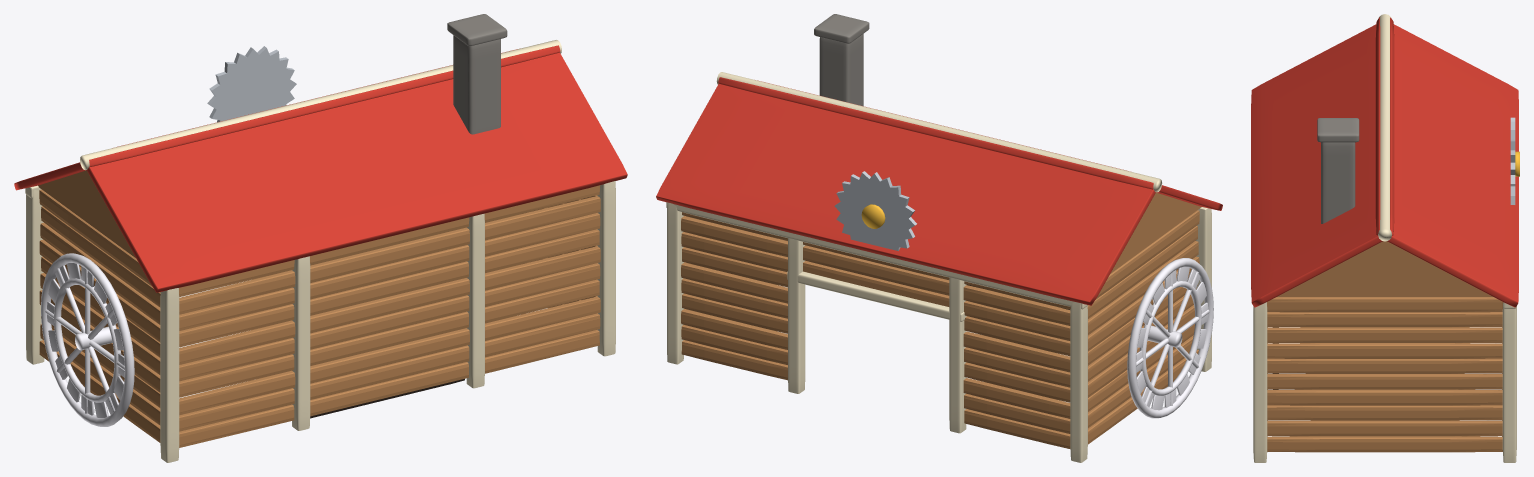
The model's file is LogJamMill.obj.
3 views of the same model, side by side, from view 1: azimuth 30°, elevation 25°; view 2: azimuth 150°, elevation 25°; view 3: azimuth 270°, elevation 25° (orthographic). The views are drawn at different scales.
Visible parts, largest first — view 1: Walls, Roof, Trim, Wheel, Chimney, Saw; view 2: Roof, Walls, Trim, Wheel, Saw, Chimney; view 3: Roof, Walls, Trim, Chimney, Saw.
Boxes of the visible parts, x1,y1,x2,y2 form: Walls: (38, 170, 600, 447); Roof: (14, 45, 627, 292); Trim: (25, 40, 615, 462); Wheel: (41, 253, 134, 426); Chimney: (447, 14, 507, 134); Saw: (207, 46, 296, 122); Roof: (656, 77, 1222, 305); Walls: (681, 192, 1201, 449); Trim: (666, 72, 1211, 462); Wheel: (1127, 258, 1213, 418); Saw: (834, 171, 916, 250); Chimney: (814, 14, 869, 106); Roof: (1251, 17, 1518, 307); Walls: (1267, 241, 1503, 452); Trim: (1253, 14, 1516, 462); Chimney: (1317, 118, 1359, 223); Saw: (1510, 117, 1515, 204).
Bounding box in the file's own units: 33.5 × 20.9 × 17.25.
